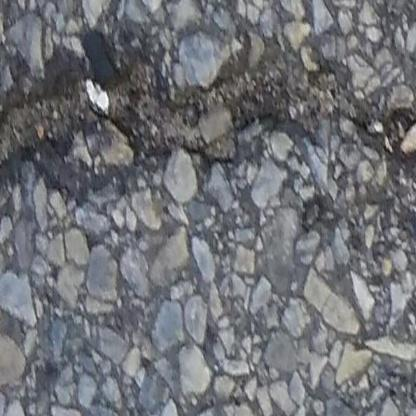Cracks: (0, 53, 416, 199)
